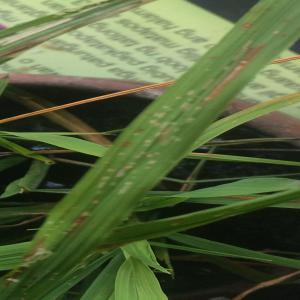Rice_Blast: (184, 38, 264, 120)
